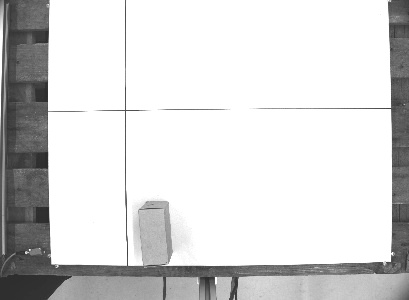b6: (134, 197, 176, 269)
